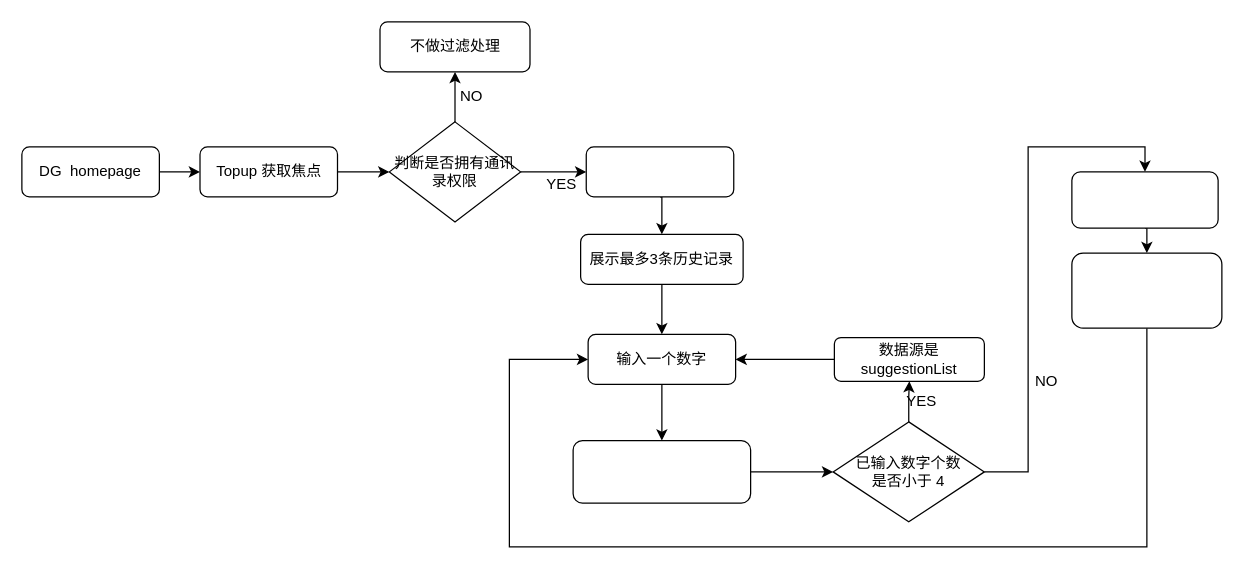
The diagram is 1244 pixels wide and 579 high, and some of its shapes have lost their labels. The centre of each missing label's shape, as x and y in pixels:
"对前面匹配的号码数组变色处理，最多展示 3 个" belongs at point (1146, 290).
"对已有通讯录号码数组进行一次过滤保存 matchContactList" belongs at point (661, 471).
"数据源切换到 matchContactList" belongs at point (1144, 199).
"获取通讯录" belongs at point (659, 171).
